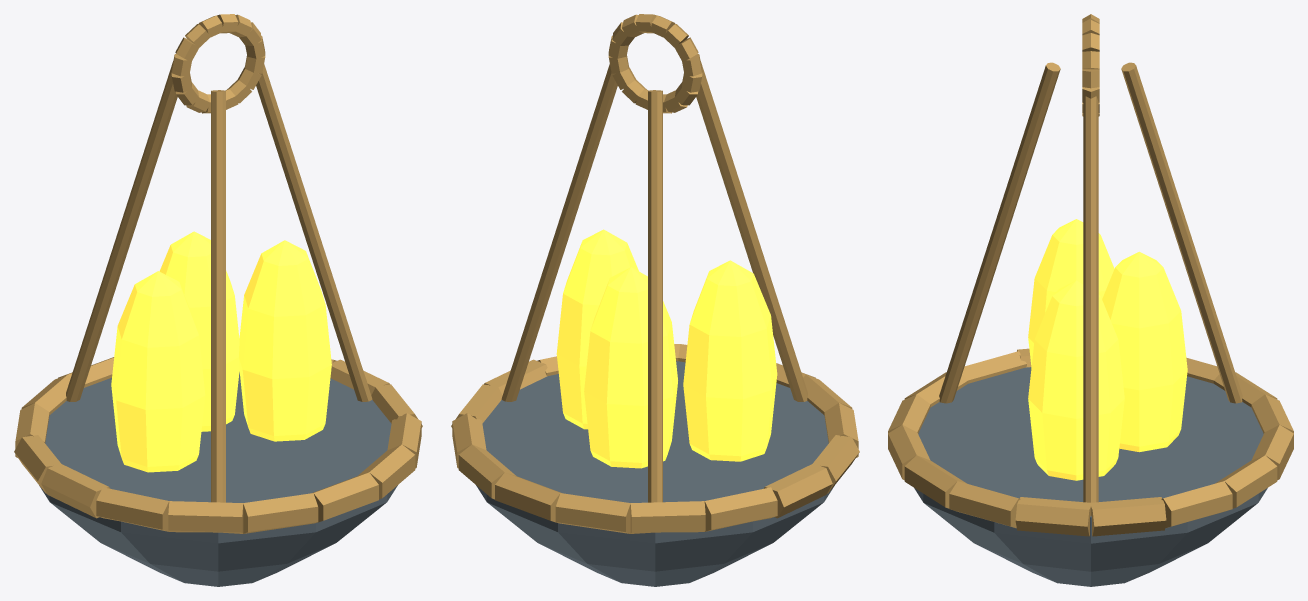
Rendered from source.glb.
3 views of the same model, side by side, from view 1: azimuth 30°, elevation 25°; view 2: azimuth 150°, elevation 25°; view 3: azimuth 270°, elevation 25° (orthographic).
Parts seen in each view (by area): view 1: body; view 2: body; view 3: body.
Boxes of the visible parts, x1,y1,x2,y2 form: body: [14, 14, 422, 586]; body: [451, 14, 859, 586]; body: [888, 14, 1293, 586].
Size of the model in its own units: 0.8487 by 1.23 by 0.8395.
